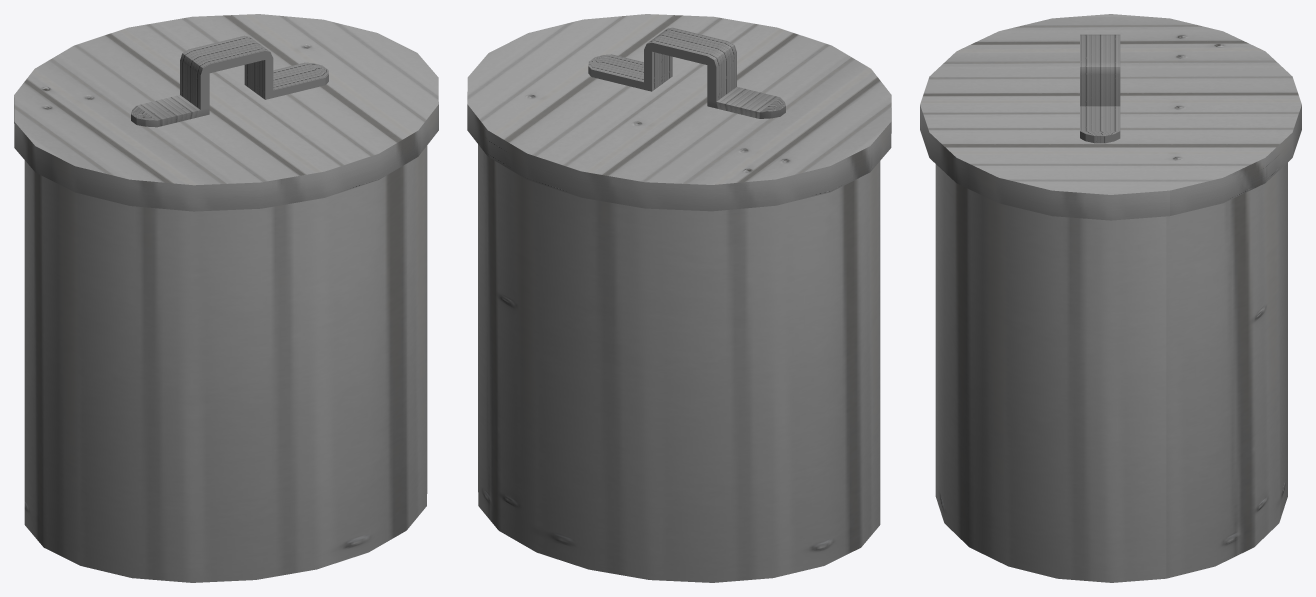
File: Detailed TrashCan.fbx
The picture shows the model from 3 angles, left to right: view 1: azimuth 30°, elevation 25°; view 2: azimuth 150°, elevation 25°; view 3: azimuth 270°, elevation 25°; orthographic projection. The views are drawn at different scales.
Parts seen in each view (by area): view 1: pasted__pasted__pCylinder36, pCylinder17, pCube37; view 2: pasted__pasted__pCylinder36, pCylinder17, pCube37; view 3: pasted__pasted__pCylinder36, pCylinder17, pCube37.
Boxes of the visible parts, x1,y1,x2,y2 form: pasted__pasted__pCylinder36: (24, 145, 427, 582); pCylinder17: (14, 14, 438, 211); pCube37: (131, 35, 328, 127); pasted__pasted__pCylinder36: (478, 144, 880, 582); pCylinder17: (467, 14, 891, 211); pCube37: (588, 27, 785, 118); pasted__pasted__pCylinder36: (935, 162, 1287, 582); pCylinder17: (920, 14, 1301, 220); pCube37: (1080, 34, 1120, 143).
Size of the model in its own units: 5.17 by 5.93 by 4.61.
1 material, 1 textured.
